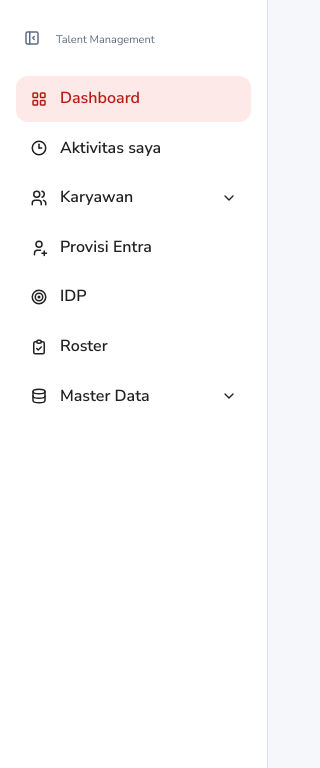
Test: Sidebar › expands a multi-page section on click
Check: the link "Unit" is not shown
Click the button "Master Data": (134, 396) [16,374,251,419]
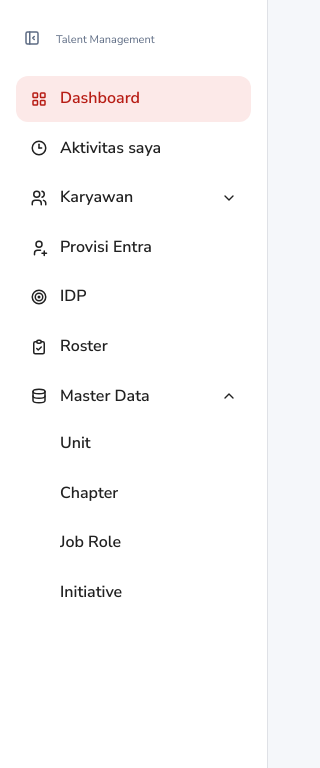
Check: the button "Master Data" is expanded, box [16,374,251,419]
Check: the link "Unit" is shown, box [60,432,91,454]
